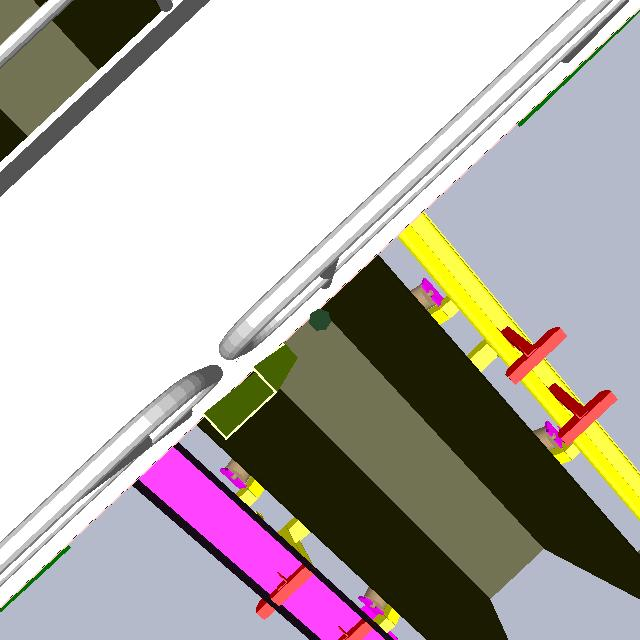Poste: (306, 301, 335, 339)
Soporte: (187, 338, 297, 449)
